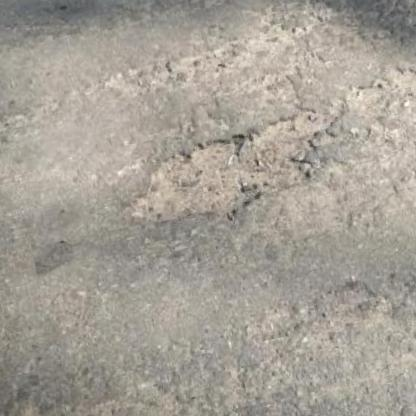pothole: (115, 101, 354, 240)
